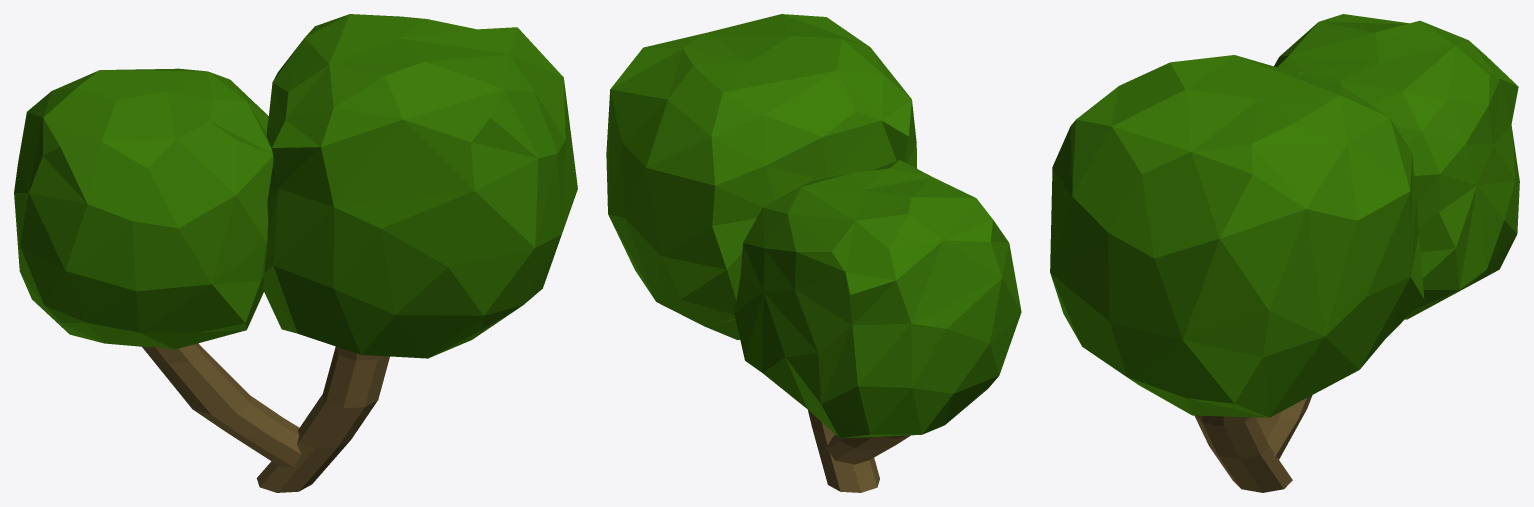
Rendered from Bush2.gltf.
3 renders of one model, left to right at view 1: azimuth 30°, elevation 25°; view 2: azimuth 150°, elevation 25°; view 3: azimuth 270°, elevation 25°, orthographic. The views are drawn at different scales.
Visible parts, largest first — view 1: Bush.001, Bush.002, Stick.001, Stick.002; view 2: Bush.002, Bush.001, Stick.001, Stick.002; view 3: Bush.001, Bush.002, Stick.001, Stick.002.
Boxes of the visible parts, x1=… form: Bush.001: x1=263, y1=14, x2=577, y2=358; Bush.002: x1=14, y1=68, x2=273, y2=349; Stick.001: x1=256, y1=346, x2=389, y2=492; Stick.002: x1=142, y1=343, x2=301, y2=467; Bush.002: x1=734, y1=160, x2=1021, y2=438; Bush.001: x1=606, y1=14, x2=917, y2=339; Stick.001: x1=808, y1=410, x2=879, y2=492; Stick.002: x1=825, y1=434, x2=910, y2=464; Bush.001: x1=1050, y1=55, x2=1424, y2=417; Bush.002: x1=1274, y1=14, x2=1519, y2=319; Stick.001: x1=1194, y1=415, x2=1292, y2=492; Stick.002: x1=1256, y1=395, x2=1312, y2=459.
Size of the model in its own units: 2.1 by 1.83 by 1.74.
